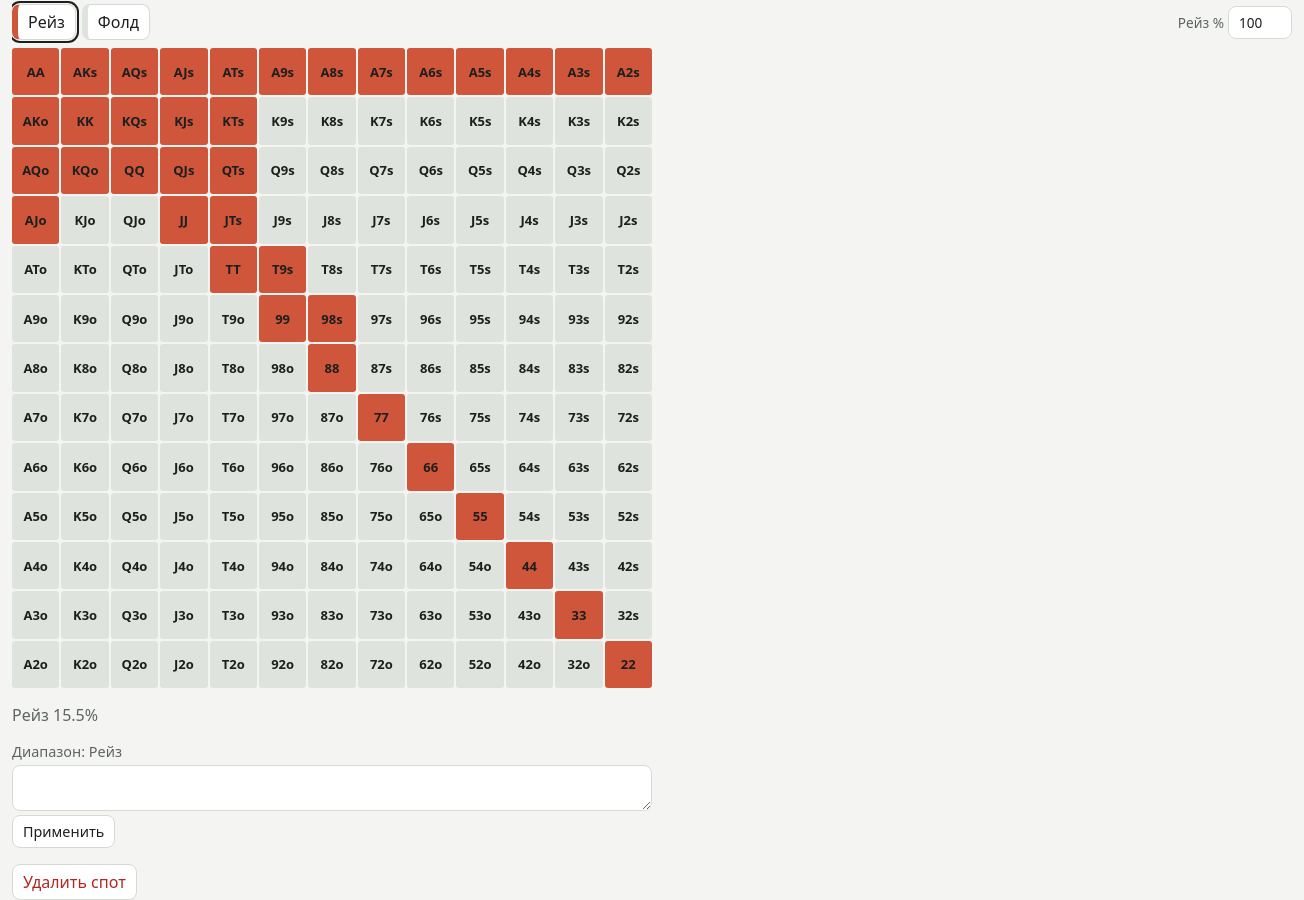
Test: ChartEditor › applies a pasted range and shows errors for bad input
(page scrolled)
Step 1. Type "AA,QXs" into the text box labelled "Диапазон: Рейз Применить" → (332, 788), box [12, 765, 652, 811]
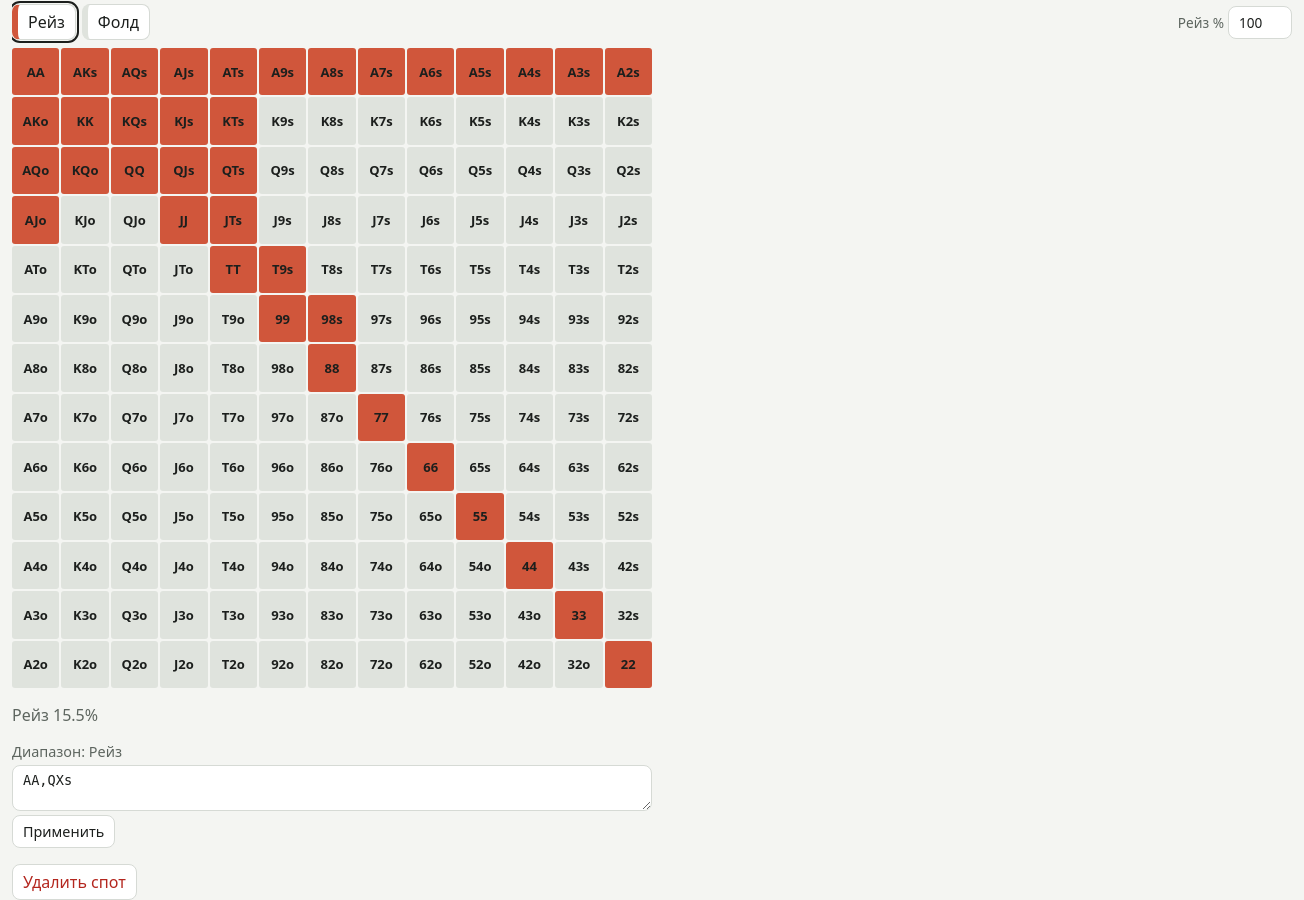
Step 2. Click the button "Применить" → (64, 832), box [12, 815, 115, 848]
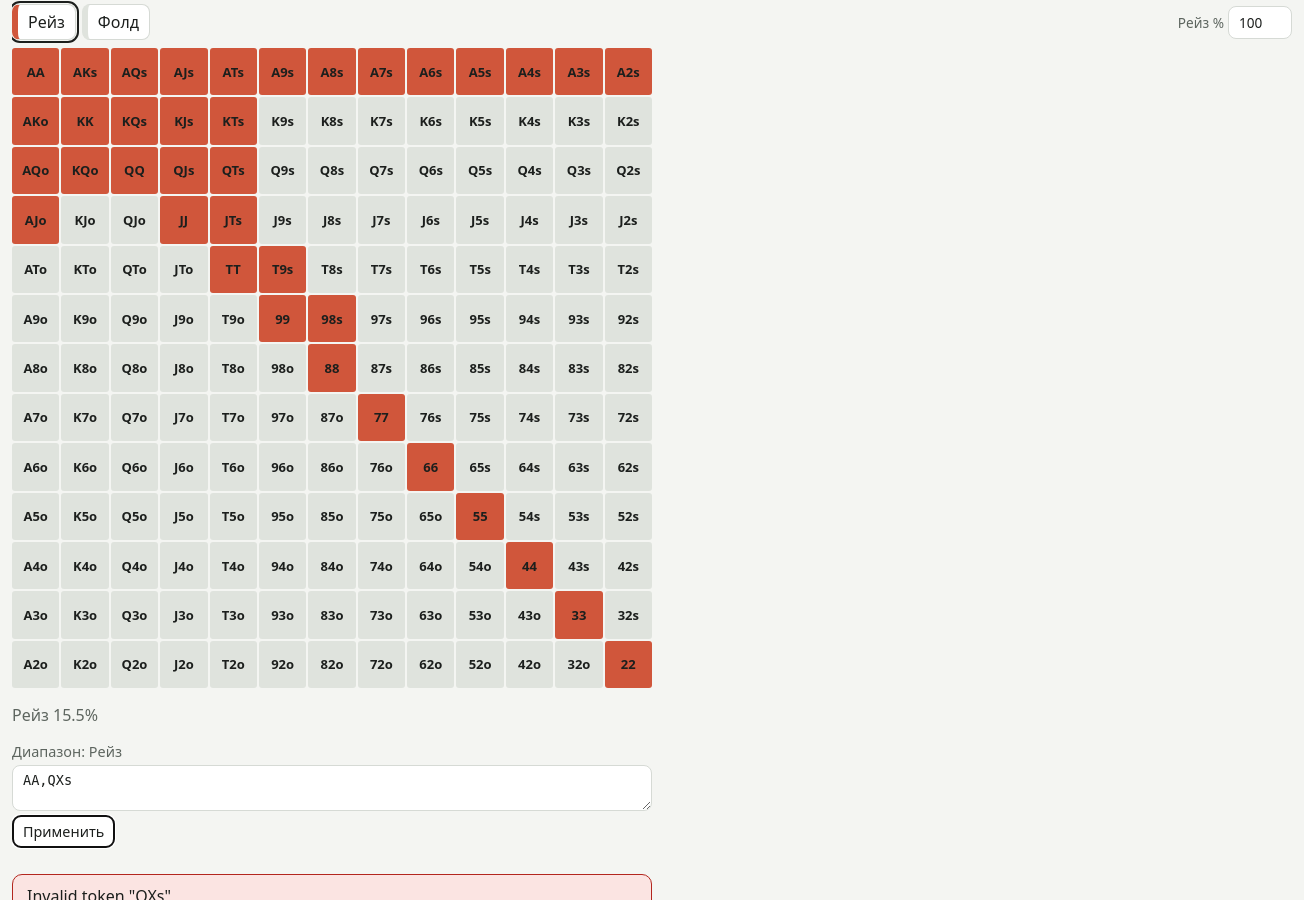
Step 3. Replace the text in the text box labelled "Диапазон: Рейз Применить" with "QQ+" → (332, 788), box [12, 765, 652, 811]
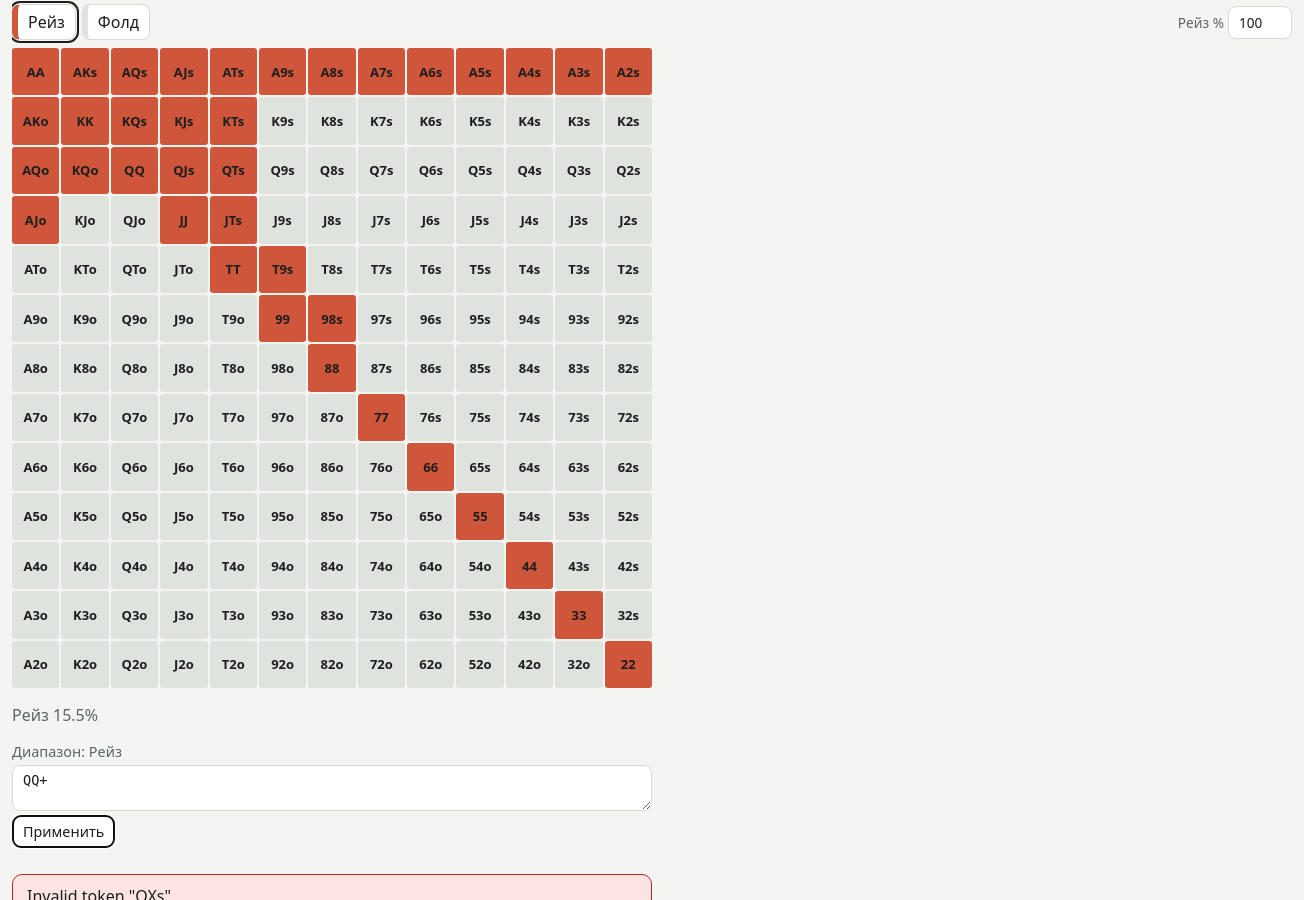
Step 4. Click the button "Применить" → (64, 832), box [12, 815, 115, 848]
(page scrolled)
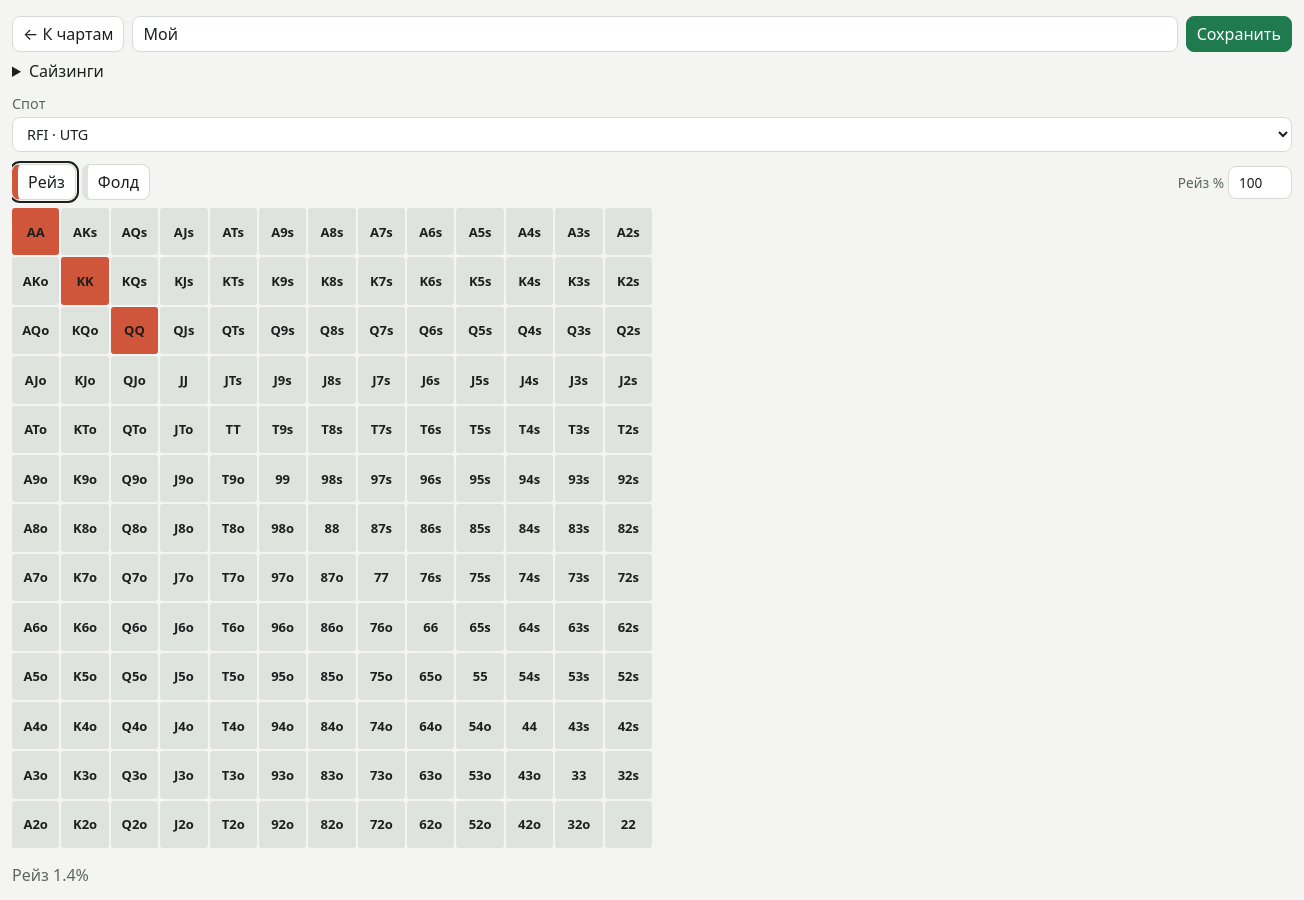
Expected: the text with test id "widths" reads "Рейз 1.4%", [12, 864, 89, 886]
Step 5. Click the button "Сохранить" → (1239, 34), box [1186, 16, 1292, 52]
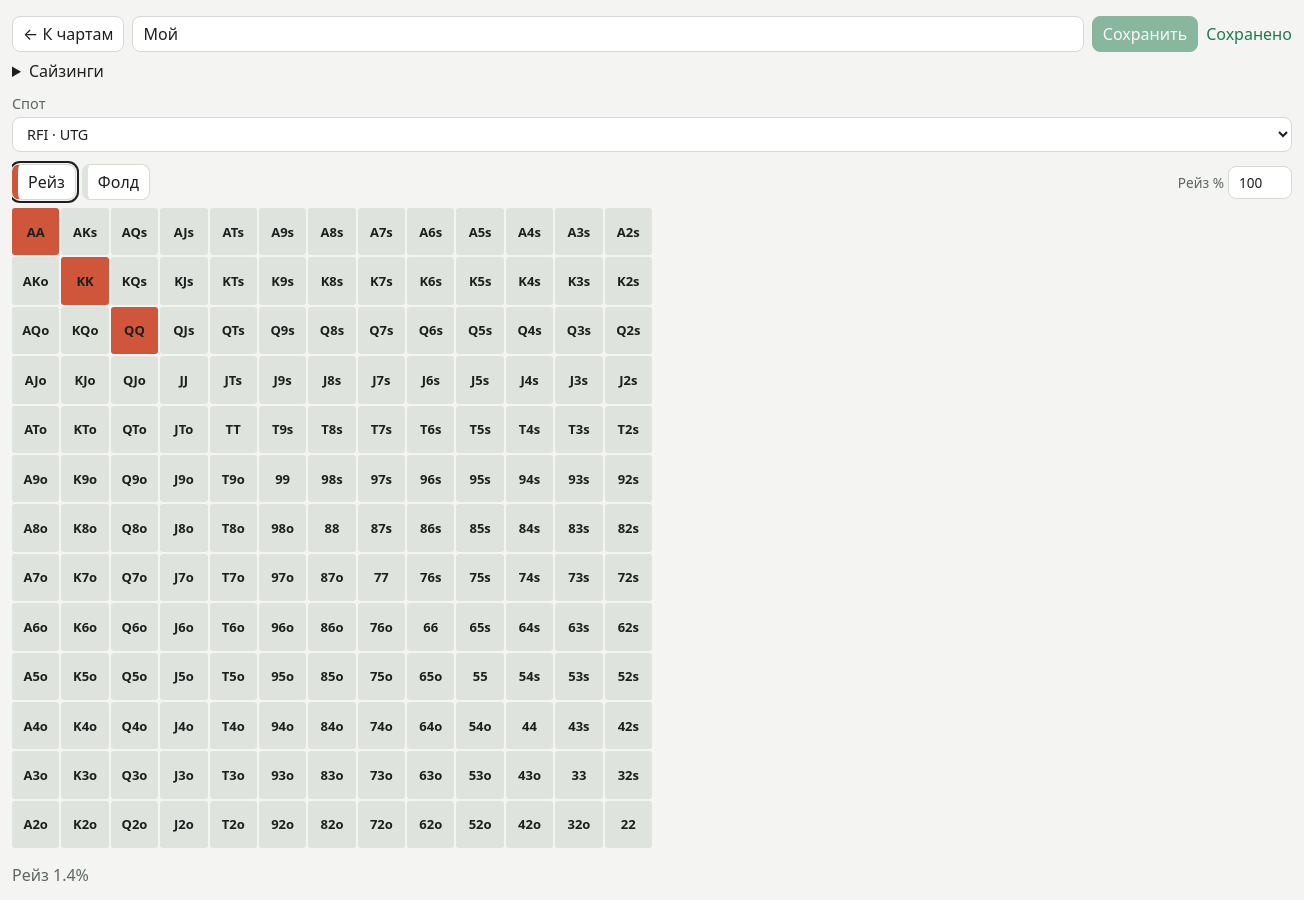
Expected: the text "Сохранено" is shown, [1206, 23, 1292, 45]
